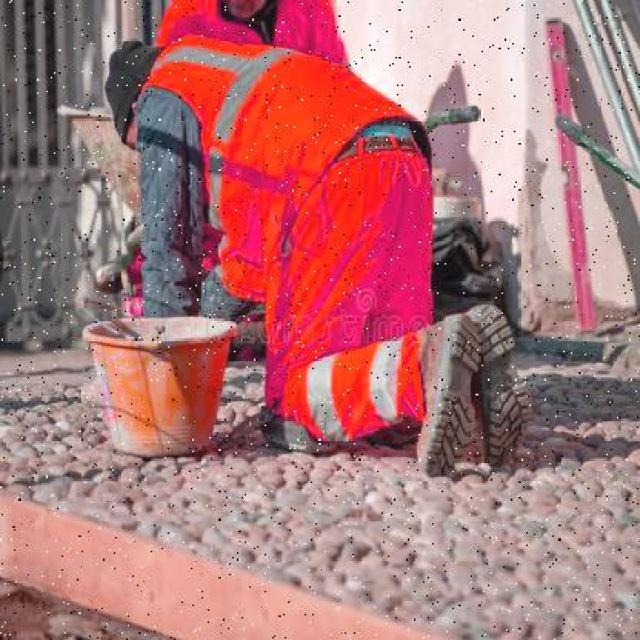shoes: (468, 297, 530, 472), (415, 310, 477, 476)
